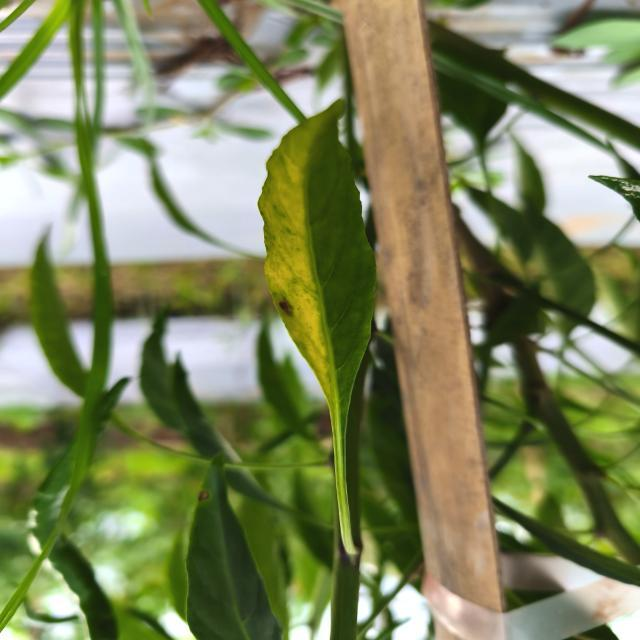Virus Kuning: (257, 99, 378, 409)
